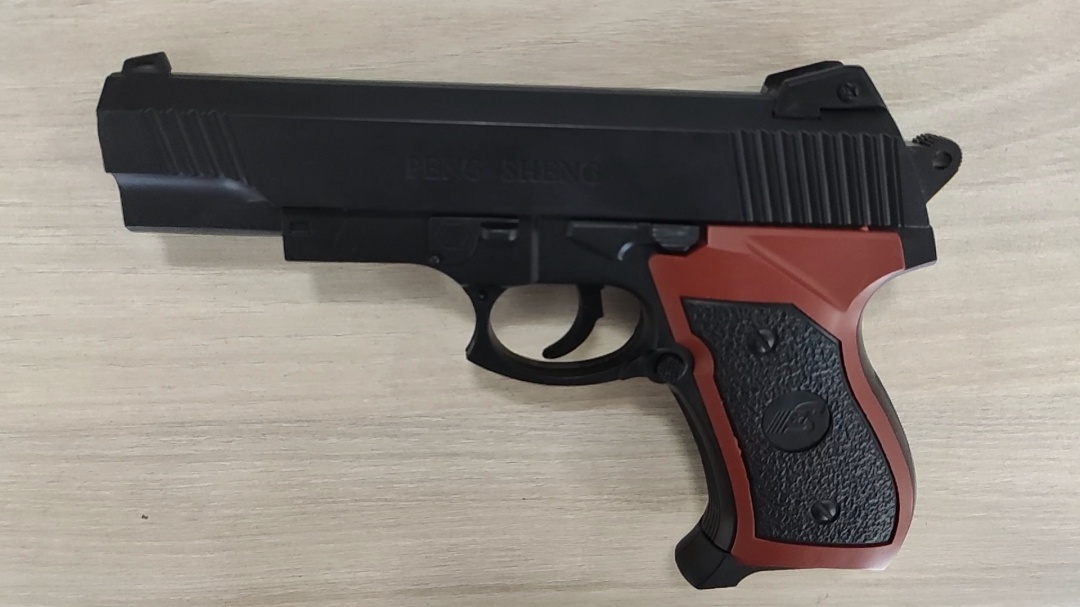gun: (96, 49, 960, 590)
